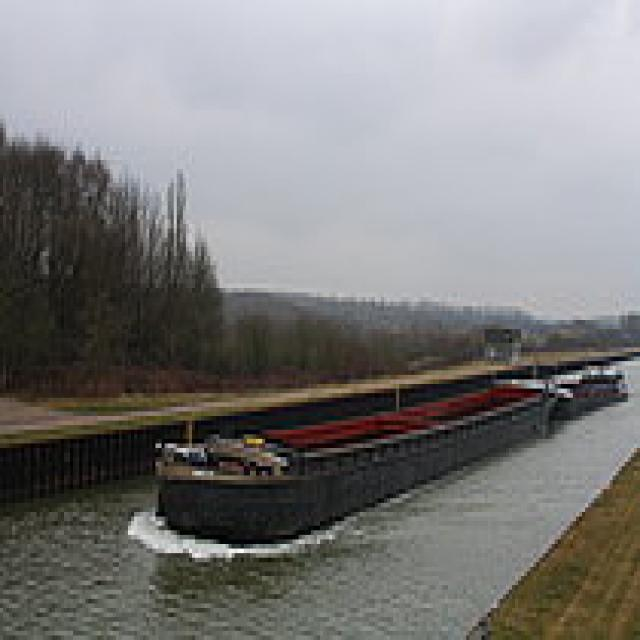Ship: (141, 353, 577, 568)
